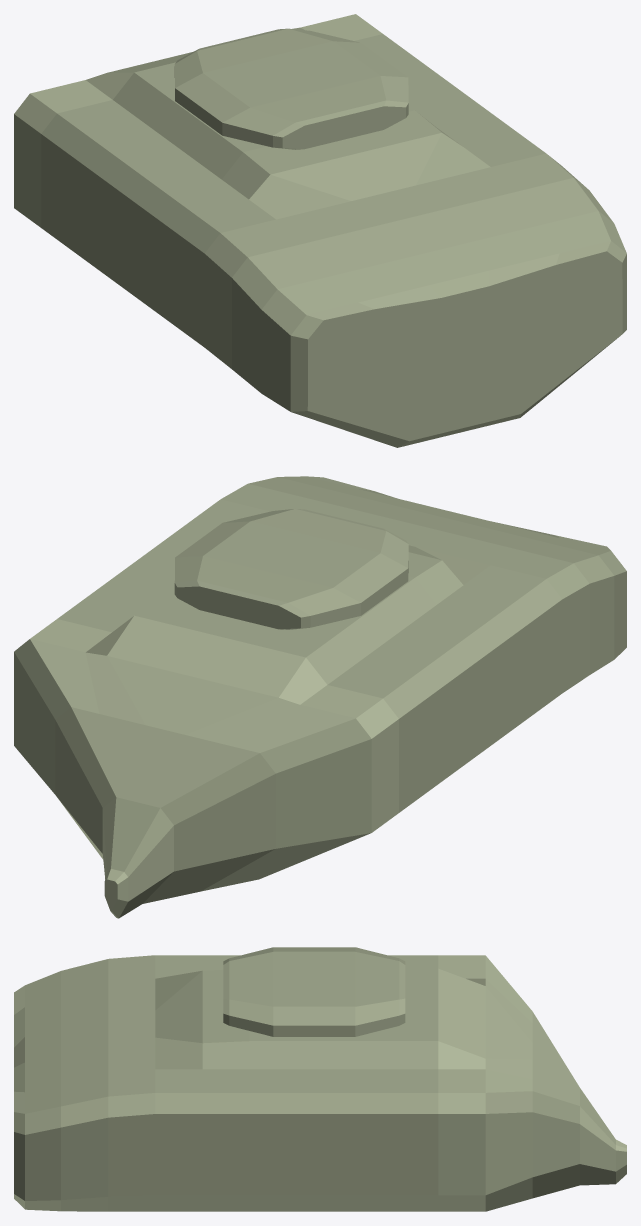
File: hartmann_medium_b.glb
The picture shows the model from 3 angles, top to bottom: view 1: azimuth 30°, elevation 25°; view 2: azimuth 150°, elevation 25°; view 3: azimuth 270°, elevation 25°; orthographic projection. The views are drawn at different scales.
Visible parts, largest first — view 1: hartmann_medium_b; view 2: hartmann_medium_b; view 3: hartmann_medium_b.
Part boxes in pixels (left/top/right/bottom): hartmann_medium_b: left=14, top=14, right=626, bottom=447; hartmann_medium_b: left=14, top=476, right=626, bottom=918; hartmann_medium_b: left=14, top=947, right=626, bottom=1211.
Size of the model in its own units: 3.5 by 2.21 by 6.
